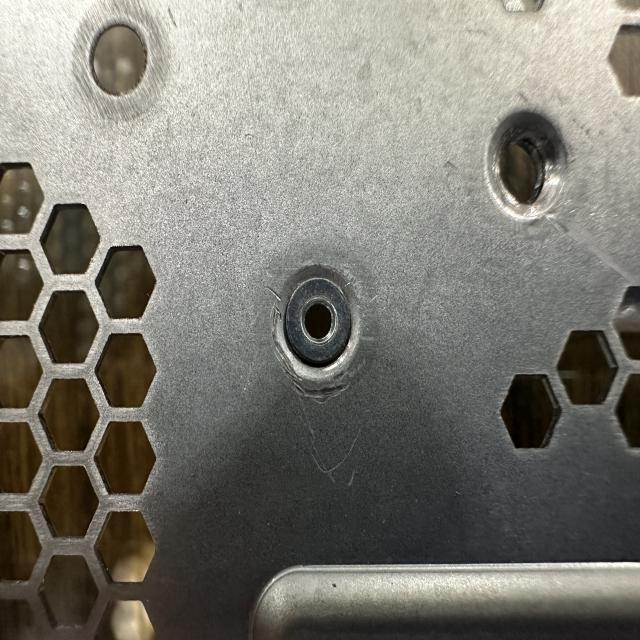Missing screw: (262, 244, 379, 396)
